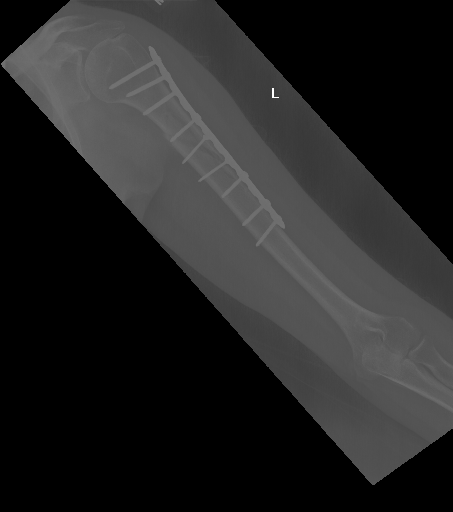implant: (112, 44, 285, 251)
